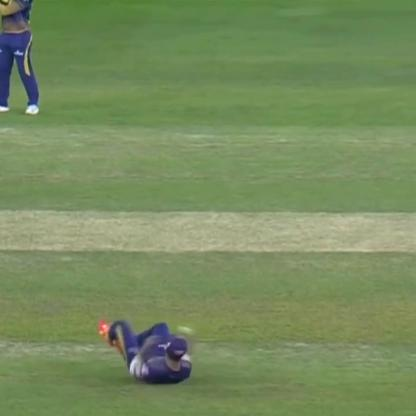ball: (178, 322, 190, 336)
